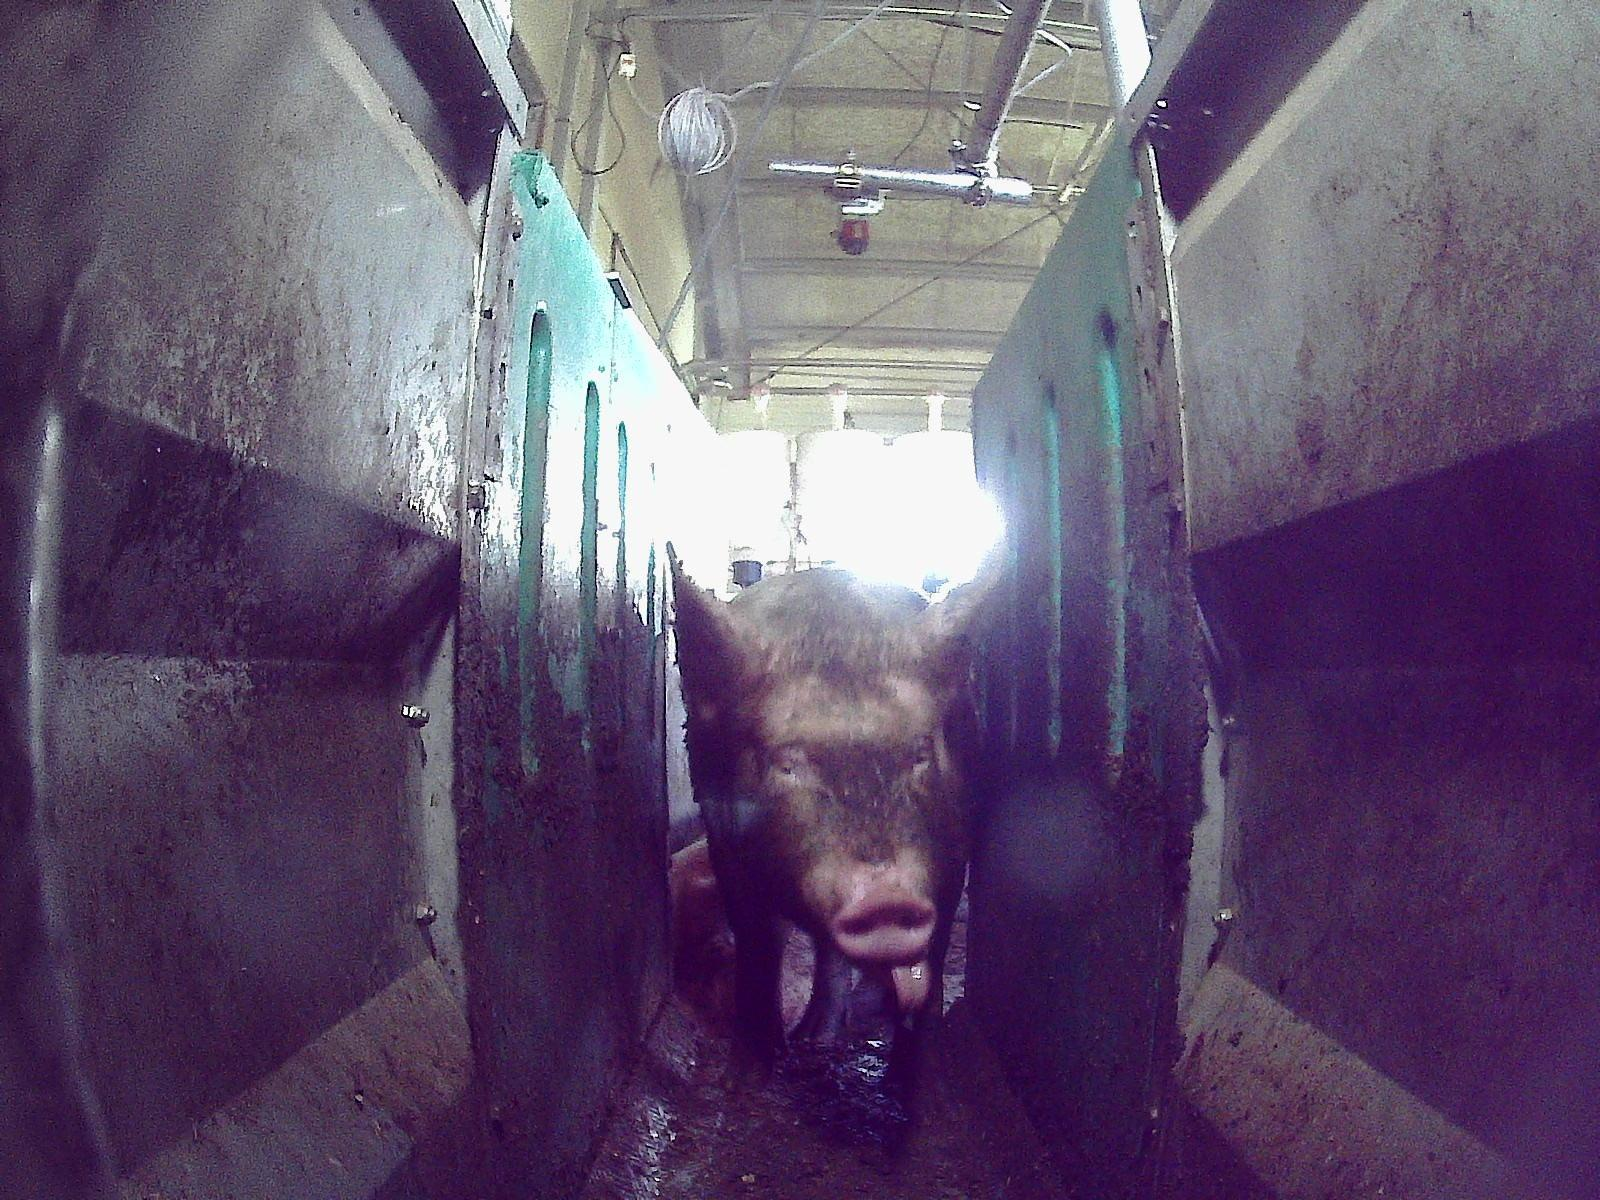Face: (709, 595, 968, 1012)
